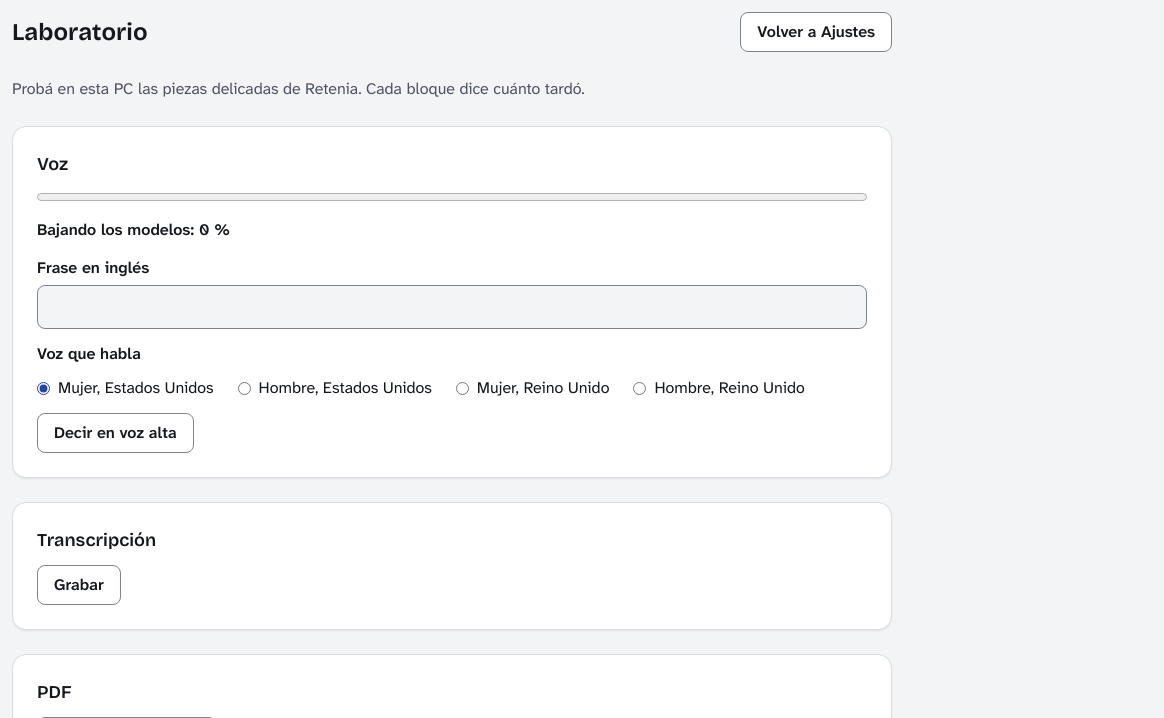
Test: Laboratorio › [CA-024] mientras se bajan los modelos, «Grabar» y «Decir en voz alta» piden esperar (simulado)
Check: the progress indicator named "Descarga de los modelos" is shown, box [37,189,867,205]
In the field labelled "Frase en inglés": (452, 307) [37,285,867,329], type "Hello"
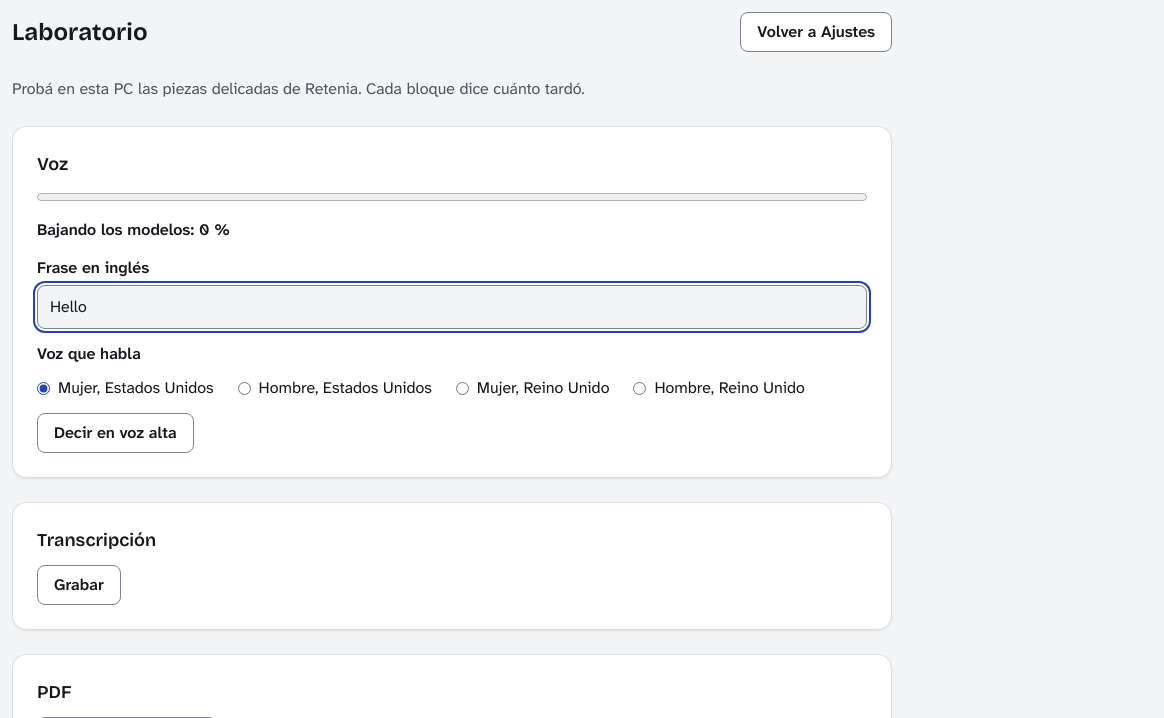
Click the button "Decir en voz alta": (115, 433) [37,413,194,453]
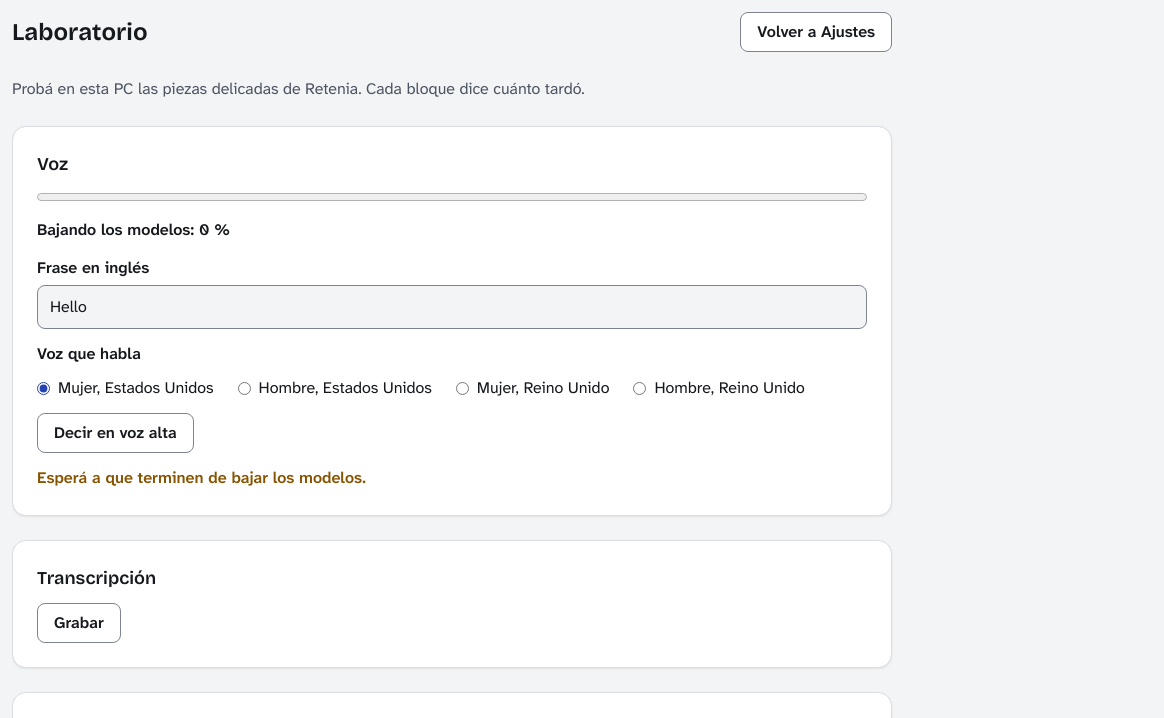
Check: the text "Esperá a que terminen de bajar los modelos." is shown, box [37,467,366,488]
Click the button "Grabar": (79, 623) [37,603,121,643]
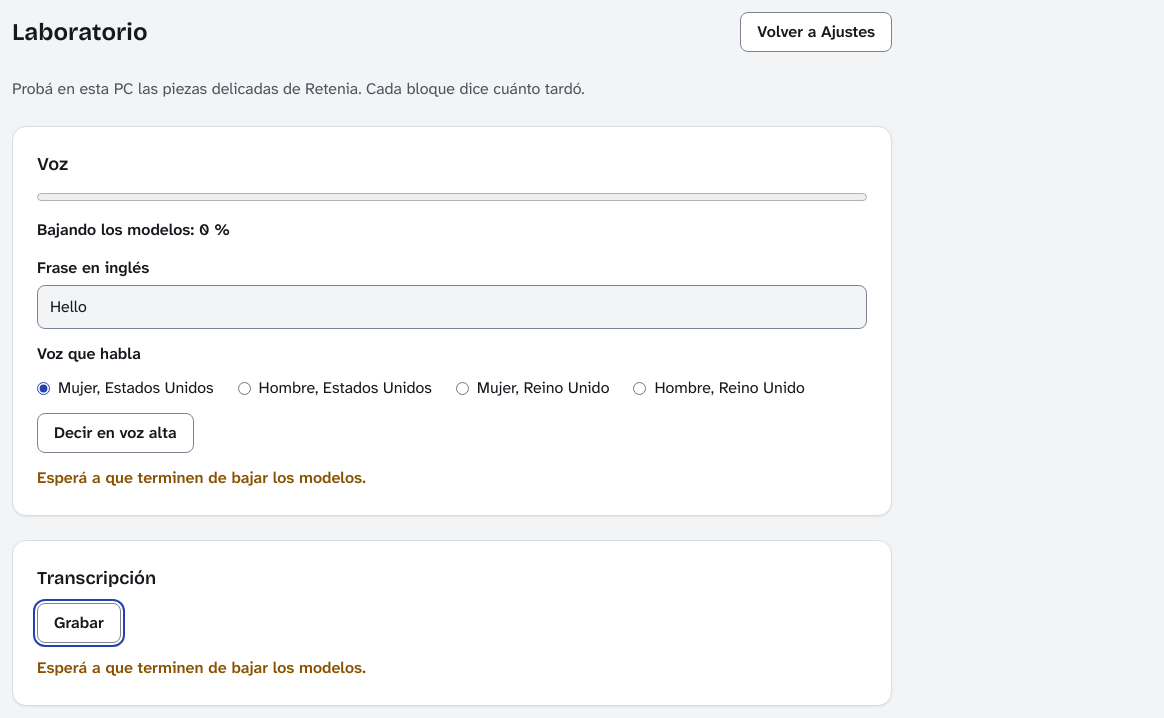
Check: the text "Esperá a que terminen de bajar los modelos." below "Transcripción" is shown, box [37,657,366,678]
